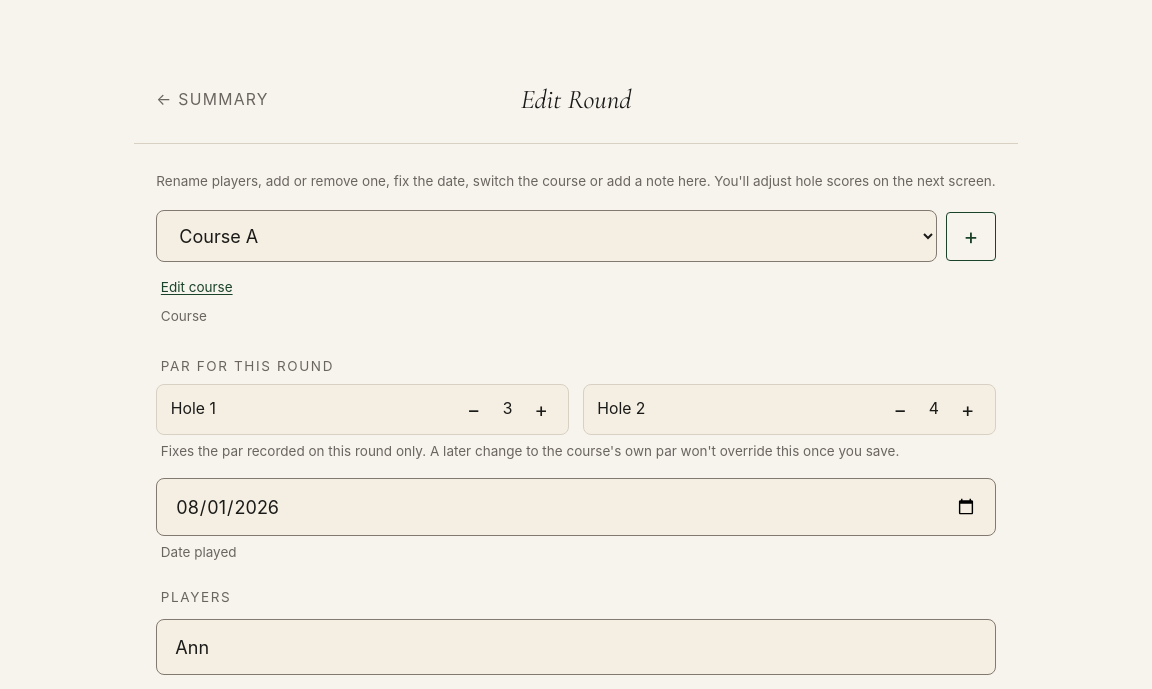
it: Setup — round-level par correction (#54/#71) › D1 edit: switching the course resets the round-par stepper to the newly-selected course's par, then stays hand-editable
This screenshot has width=1152, height=689.
Check: the element named "Hole 1, par 3" is shown, box [156,384,569,435]
Select "Course B" in the dropdown showing "Course A" at (547, 236), box [156,210,937,262]
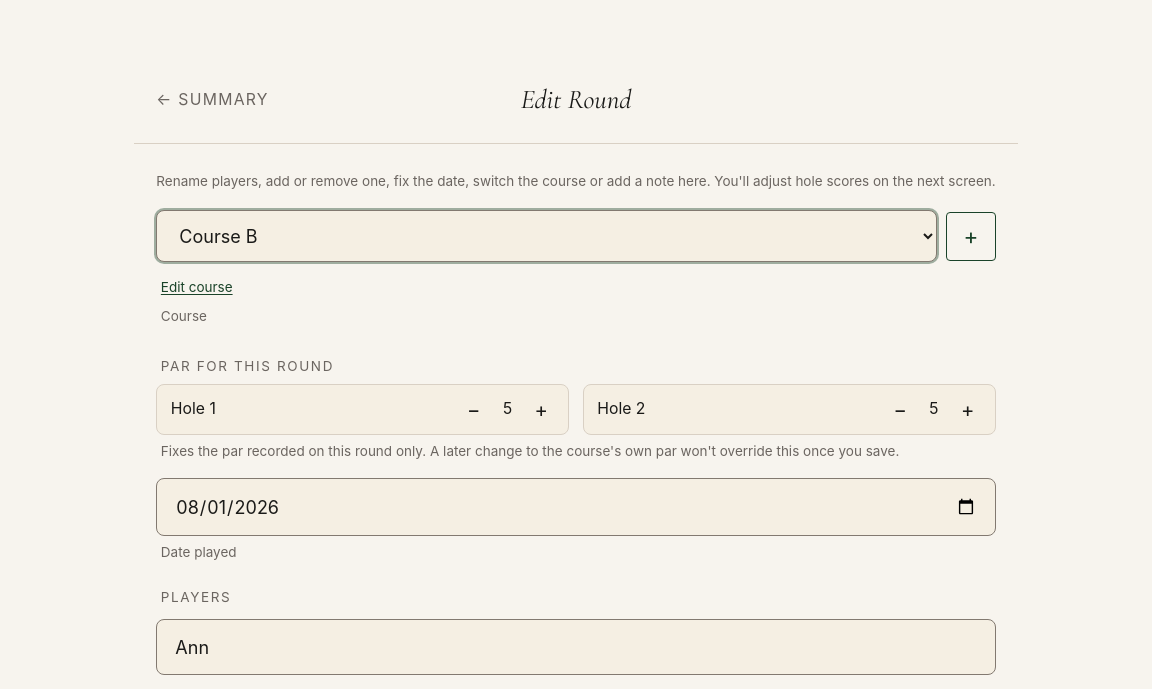
Check: the element named "Hole 1, par 5" is shown, box [156,384,569,435]
Click the button named "Increase par for hole 1" at (541, 410), box [516,385,566,434]
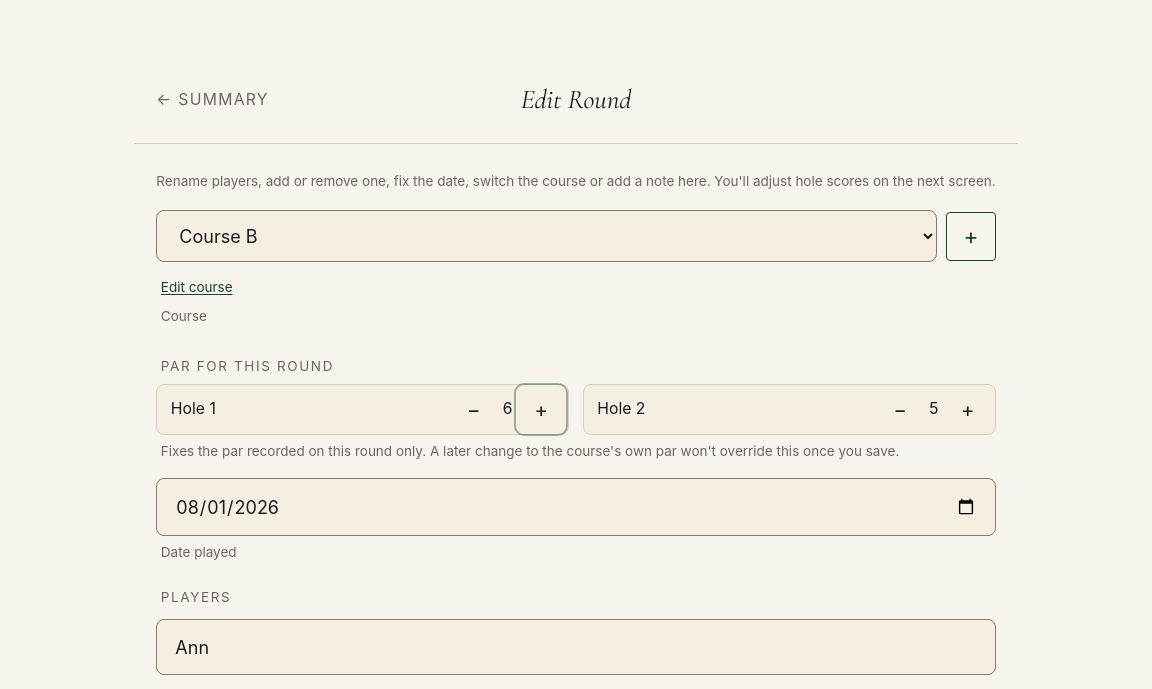
Check: the element named "Hole 1, par 6" is shown, box [156,384,569,435]
